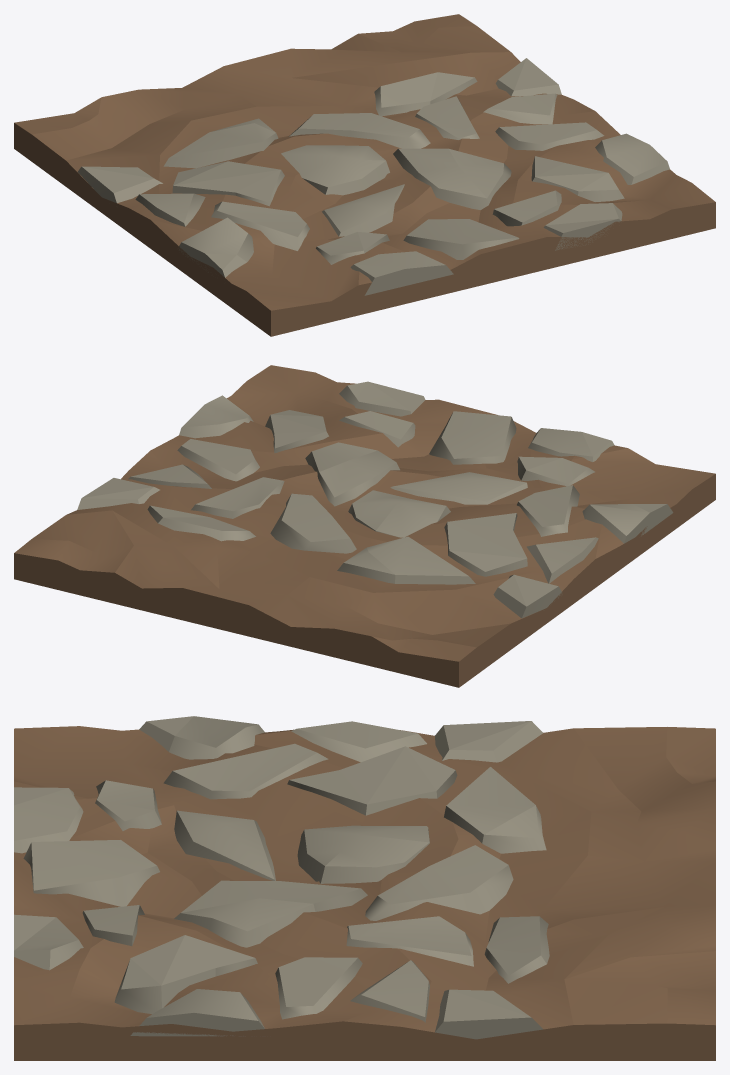
The model's file is Ground_Stone_Path_Crossroads_B.glb.
3 views of the same model, one above another, from view 1: azimuth 30°, elevation 25°; view 2: azimuth 150°, elevation 25°; view 3: azimuth 270°, elevation 25° (orthographic). The views are drawn at different scales.
Visible parts, largest first — view 1: Ground_Stone_Path_Crossroads_B; view 2: Ground_Stone_Path_Crossroads_B; view 3: Ground_Stone_Path_Crossroads_B.
Part boxes in pixels (x1,y1,x2,y2): Ground_Stone_Path_Crossroads_B: (14, 14, 715, 336); Ground_Stone_Path_Crossroads_B: (14, 365, 715, 687); Ground_Stone_Path_Crossroads_B: (14, 716, 715, 1060).
Bounding box in the file's own units: 1.47 × 0.1486 × 1.47.
